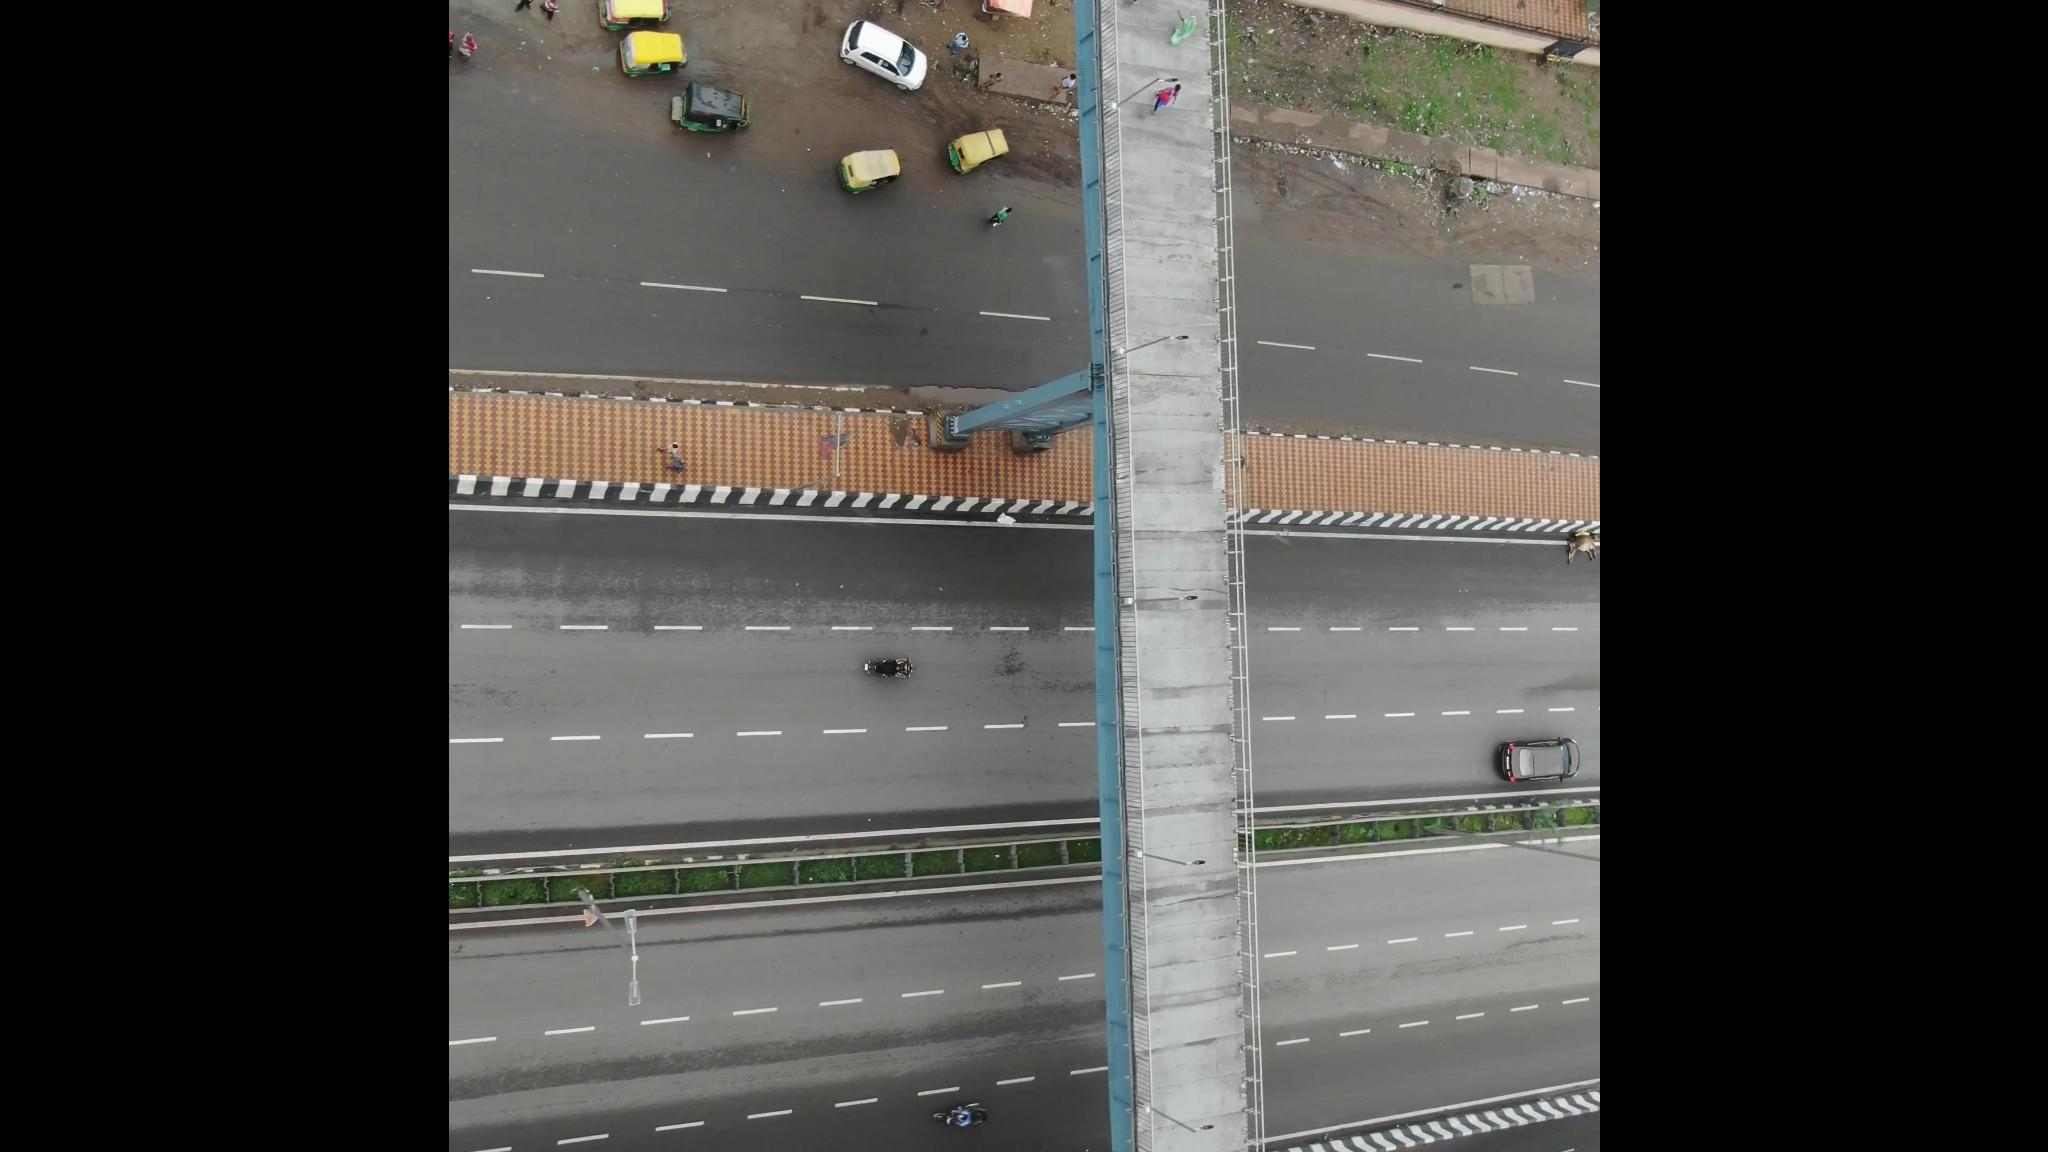Muddy_road: (1249, 146, 1438, 252)
Ravelling: (1400, 928, 1589, 1003)
